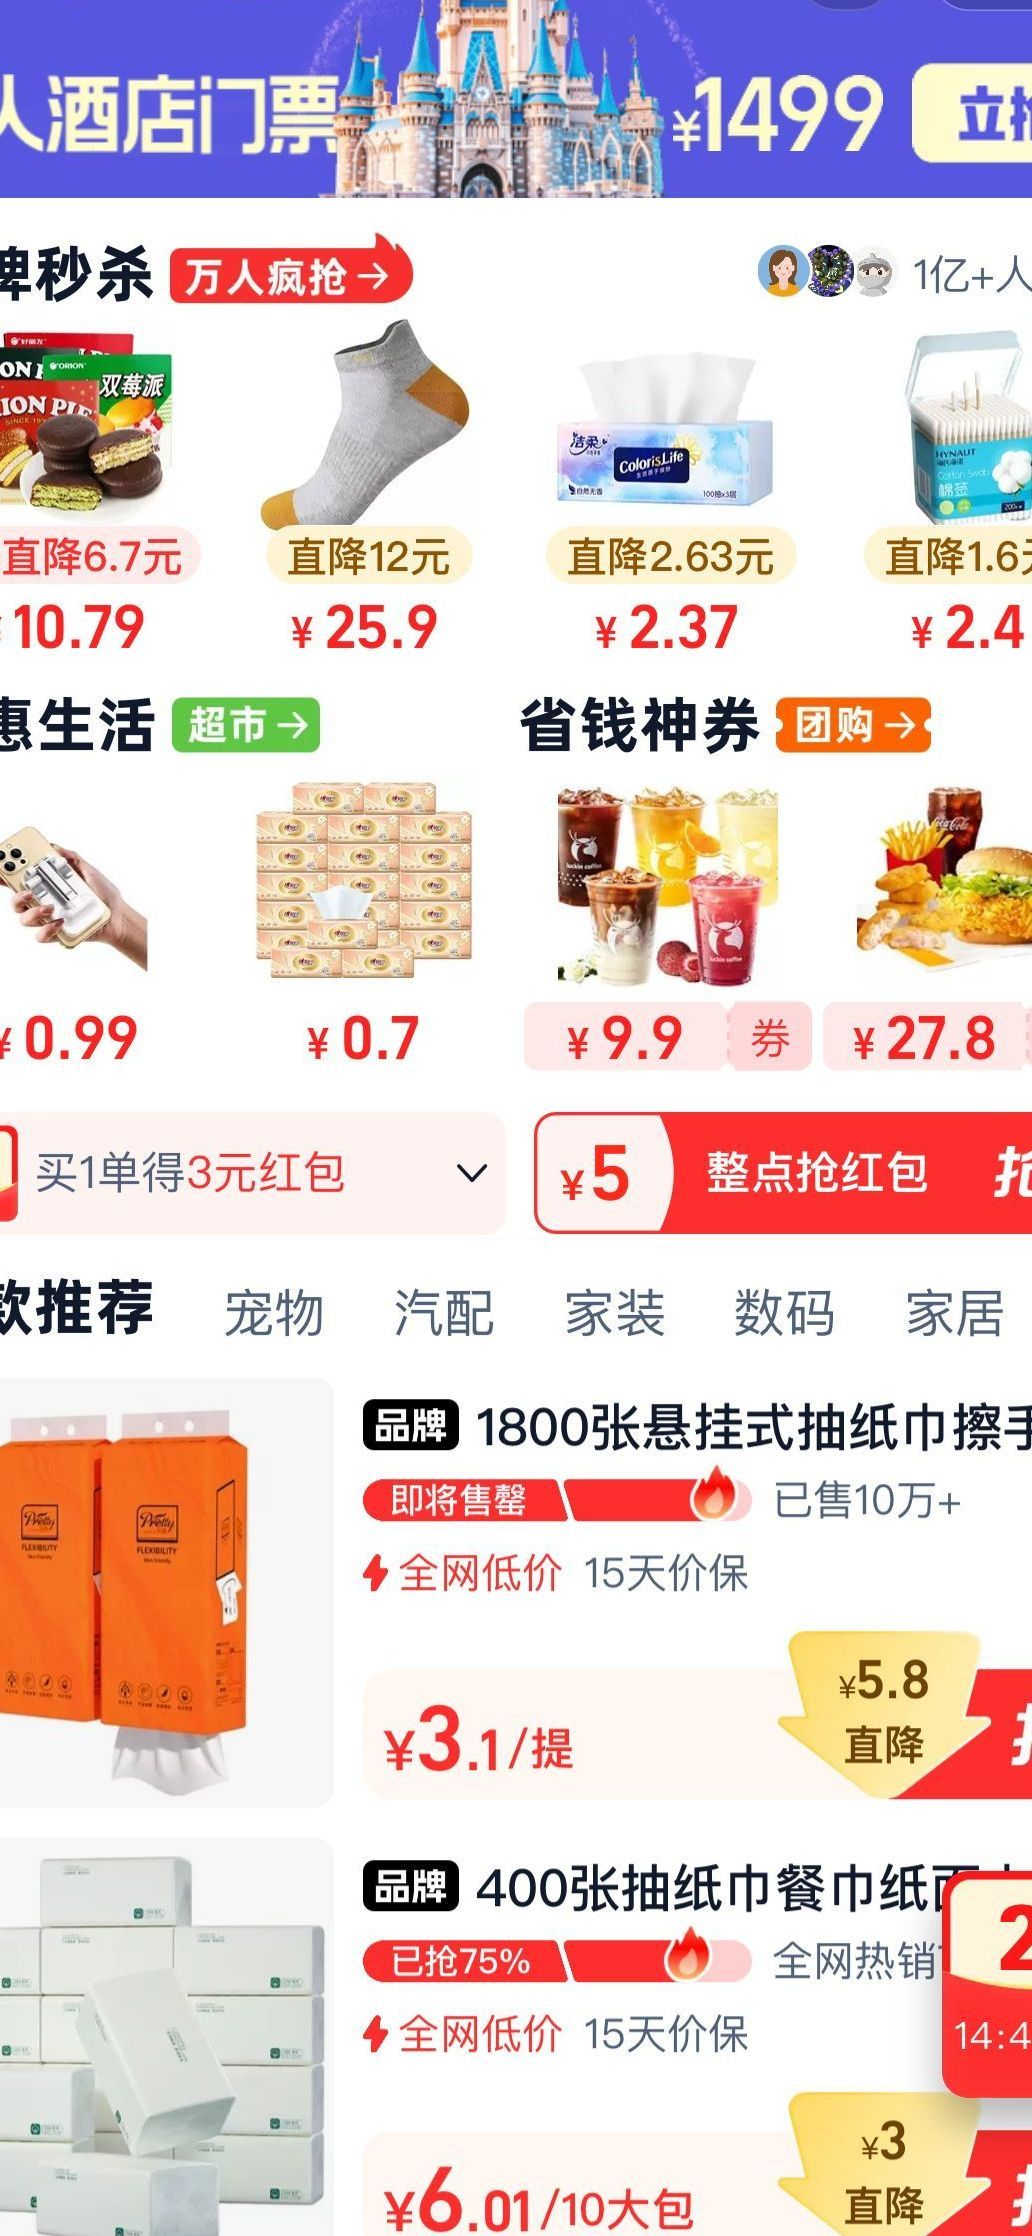item: (13, 1360, 1015, 1812)
seckill: (1, 202, 1011, 665)
